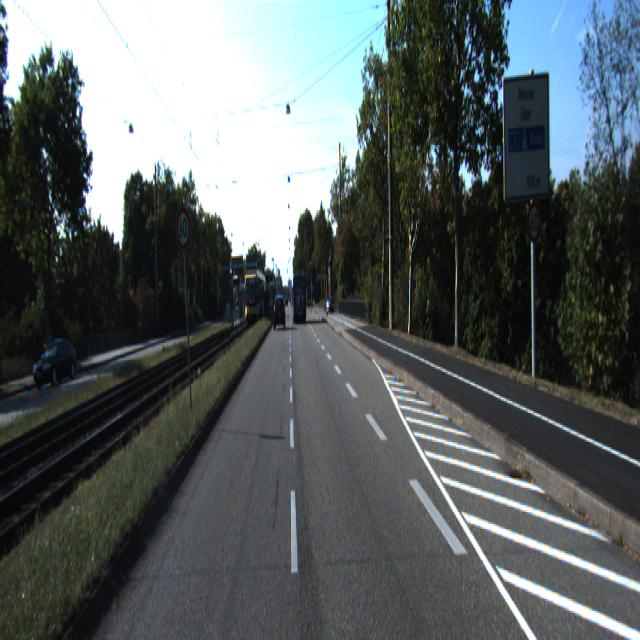Car: (33, 340, 78, 392), (244, 274, 265, 328), (293, 276, 307, 326), (274, 296, 286, 330)
